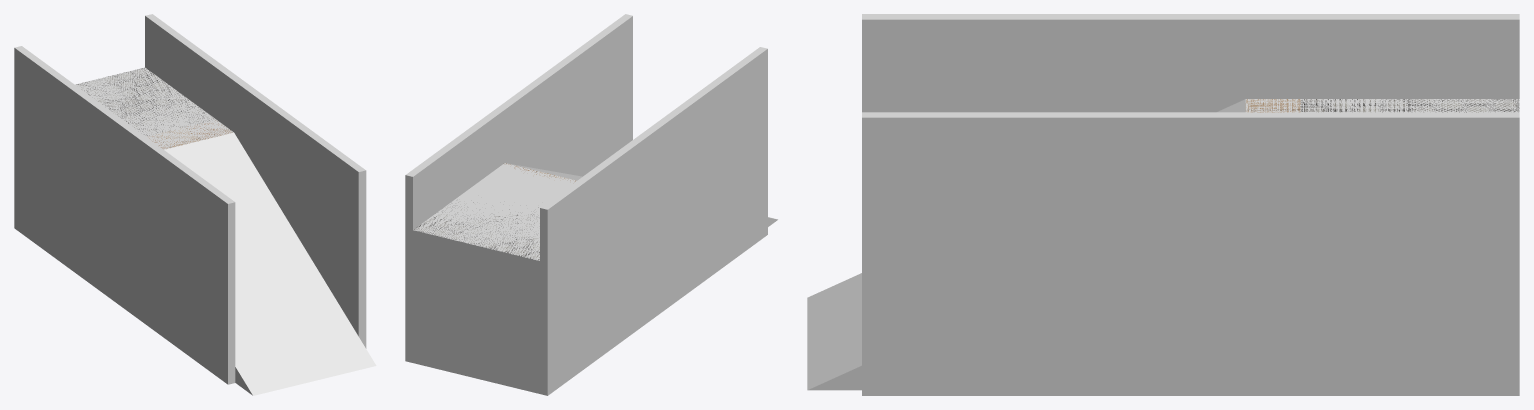
File: stairs.glb
The picture shows the model from 3 angles, left to right: view 1: azimuth 30°, elevation 25°; view 2: azimuth 150°, elevation 25°; view 3: azimuth 270°, elevation 25°; orthographic projection. The views are drawn at different scales.
Visible parts, largest first — view 1: col_side_west, col_stairs, col_side_east, col_landing, landing; view 2: col_side_west, col_landing, col_side_east, landing; view 3: col_side_east, col_side_west, col_stairs, col_landing, landing.
Part boxes in pixels (x1,y1,x2,y2): col_side_west: (14,46,235,384); col_stairs: (164,132,376,395); col_side_east: (145,14,366,348); col_landing: (75,67,233,149); landing: (76,68,213,135); col_side_west: (540,47,767,395); col_landing: (413,163,576,393); col_side_east: (405,14,632,362); landing: (414,202,539,260); col_side_east: (862,112,1519,395); col_side_west: (862,14,1519,112); col_stairs: (807,99,1245,390); col_landing: (1245,99,1519,112); landing: (1301,99,1519,112).
Size of the model in its own units: 2.24 by 2.8 by 6.5.
3 materials, 3 textured.
